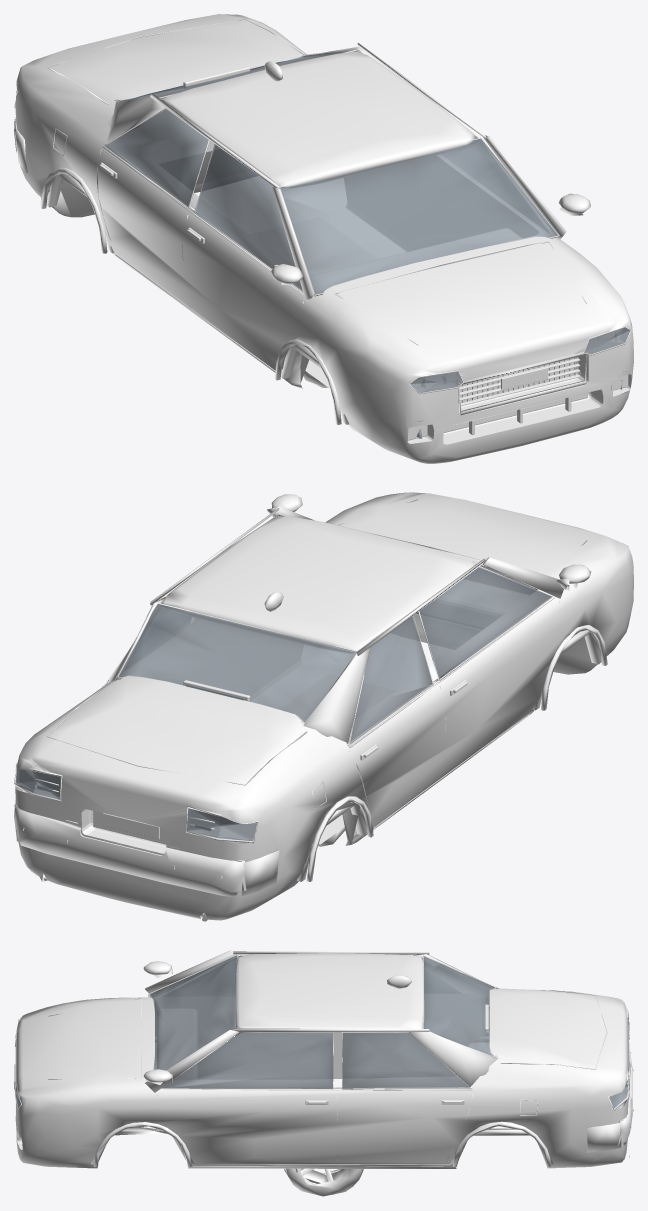
File: sedan-lo.glb
3 views of the same model, one above another, from view 1: azimuth 30°, elevation 25°; view 2: azimuth 150°, elevation 25°; view 3: azimuth 270°, elevation 25° (orthographic). The views are drawn at different scales.
Visible parts, largest first — view 1: body; view 2: body; view 3: body, wheel.
Boxes of the visible parts, bbox=[...] form: body: bbox=[14, 14, 633, 463]; body: bbox=[14, 492, 633, 921]; body: bbox=[14, 950, 633, 1168]; wheel: bbox=[284, 1168, 363, 1196].
Size of the model in its own units: 2.06 by 1.78 by 4.59.
